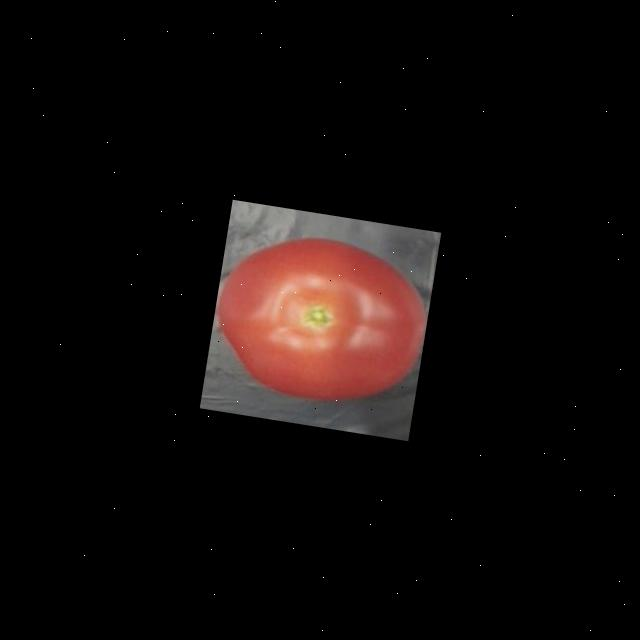tomato: (203, 220, 437, 417)
